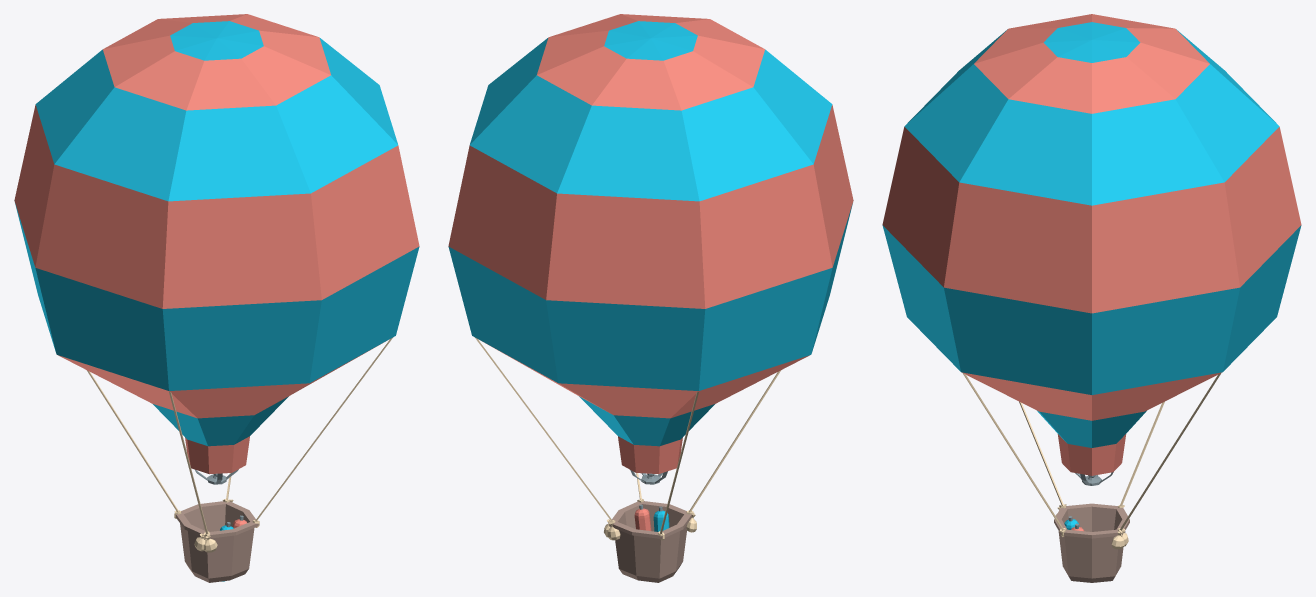
File: balloon.gltf
3 renders of one model, left to right at view 1: azimuth 30°, elevation 25°; view 2: azimuth 150°, elevation 25°; view 3: azimuth 270°, elevation 25°, orthographic.
Parts seen in each view (by area): view 1: Cube.031_Cube.032; view 2: Cube.031_Cube.032; view 3: Cube.031_Cube.032.
Part boxes in pixels (x1,y1,x2,y2): Cube.031_Cube.032: (14,14,419,582); Cube.031_Cube.032: (448,14,853,582); Cube.031_Cube.032: (882,14,1301,582).
Bounding box in the file's own units: 7.06 × 9.94 × 7.06.
